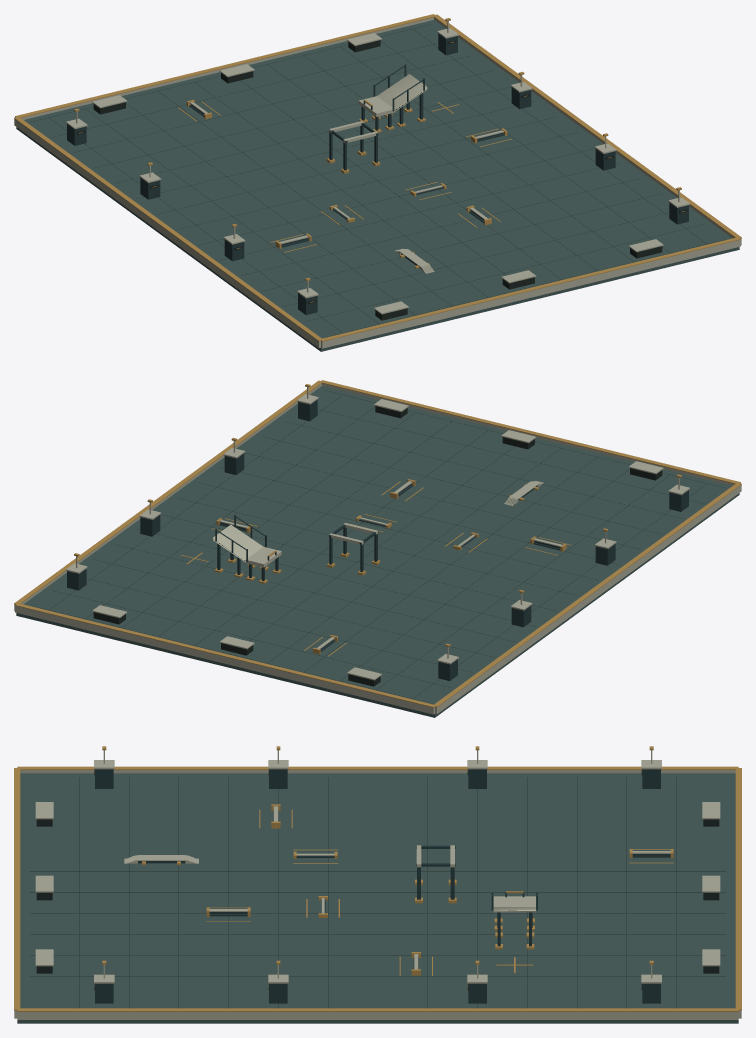
The model's file is court_d0_lod2.glb.
The picture shows the model from 3 angles, top to bottom: view 1: azimuth 30°, elevation 25°; view 2: azimuth 150°, elevation 25°; view 3: azimuth 270°, elevation 25°; orthographic projection. The views are drawn at different scales.
Parts seen in each view (by area): view 1: COURT_STATIC; view 2: COURT_STATIC; view 3: COURT_STATIC.
Boxes of the visible parts, bbox=[...] form: COURT_STATIC: bbox=[14, 14, 741, 351]; COURT_STATIC: bbox=[14, 380, 741, 717]; COURT_STATIC: bbox=[14, 746, 741, 1023].
Bounding box in the file's own units: 23.26 × 2.75 × 29.26.
